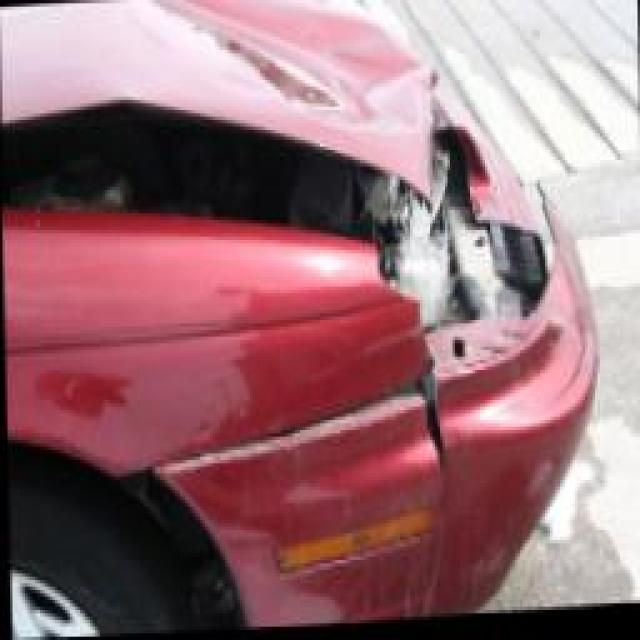Bonnet: (0, 0, 432, 227)
Bumper: (398, 167, 639, 583)
